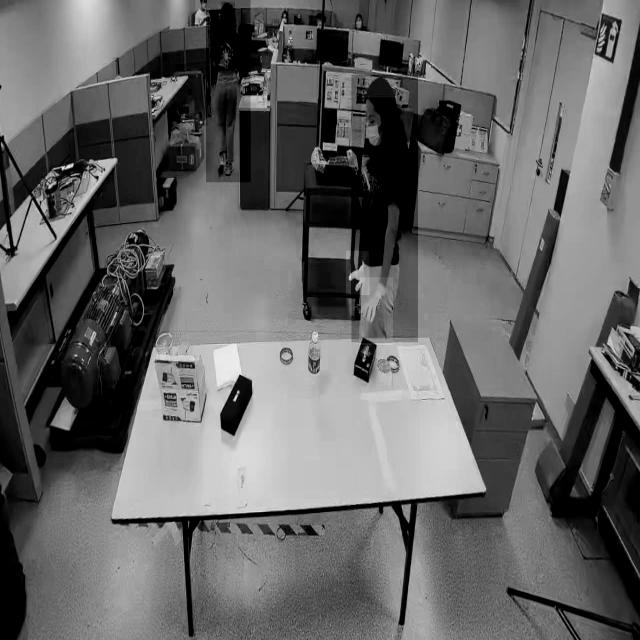face_mask: (362, 92, 394, 150)
hand_glove: (359, 277, 393, 346), (346, 251, 370, 295)
head_nohelmet: (365, 76, 397, 98), (221, 2, 235, 13)
person: (351, 75, 418, 343), (206, 0, 250, 183)
